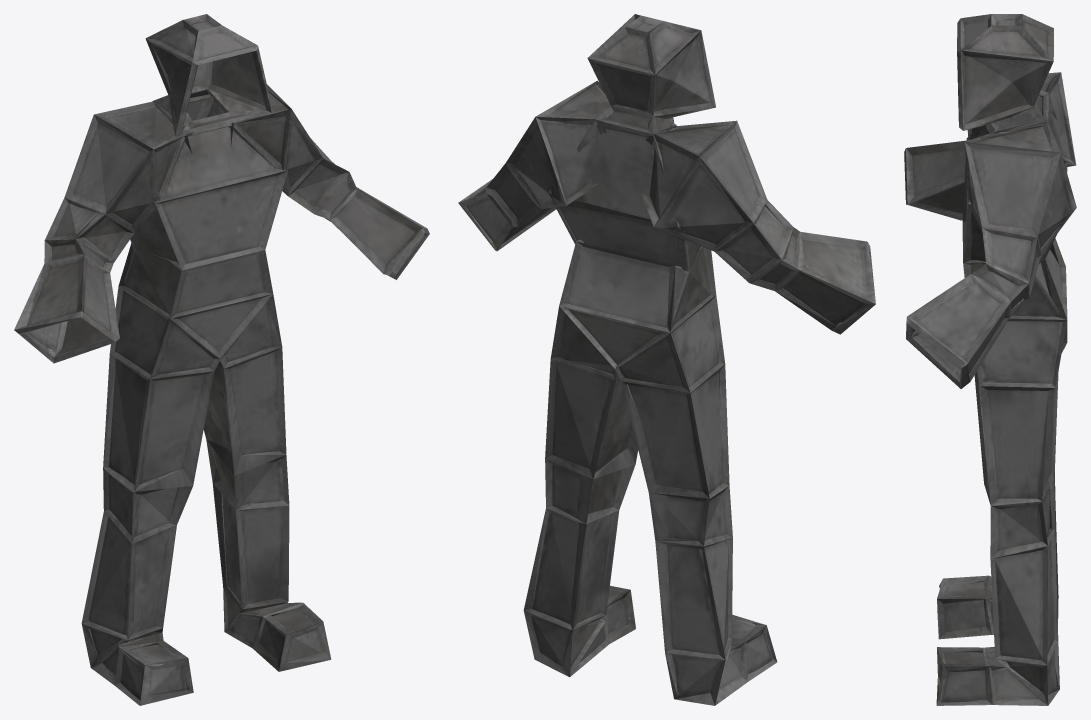
Rendered from mhw_joachip_cyborg_suit.glb.
3 views of the same model, side by side, from view 1: azimuth 30°, elevation 25°; view 2: azimuth 150°, elevation 25°; view 3: azimuth 270°, elevation 25° (orthographic).
Visible parts, largest first — view 1: mhw_joachip_cyborg_suit; view 2: mhw_joachip_cyborg_suit; view 3: mhw_joachip_cyborg_suit.
Boxes of the visible parts, box(x1,y1,x2,y2) form: mhw_joachip_cyborg_suit: box(14, 14, 429, 705); mhw_joachip_cyborg_suit: box(458, 14, 875, 705); mhw_joachip_cyborg_suit: box(904, 14, 1076, 705).
Bounding box in the file's own units: 1.28 × 1.89 × 0.4591.
Materials: 1 (1 with a texture image).
